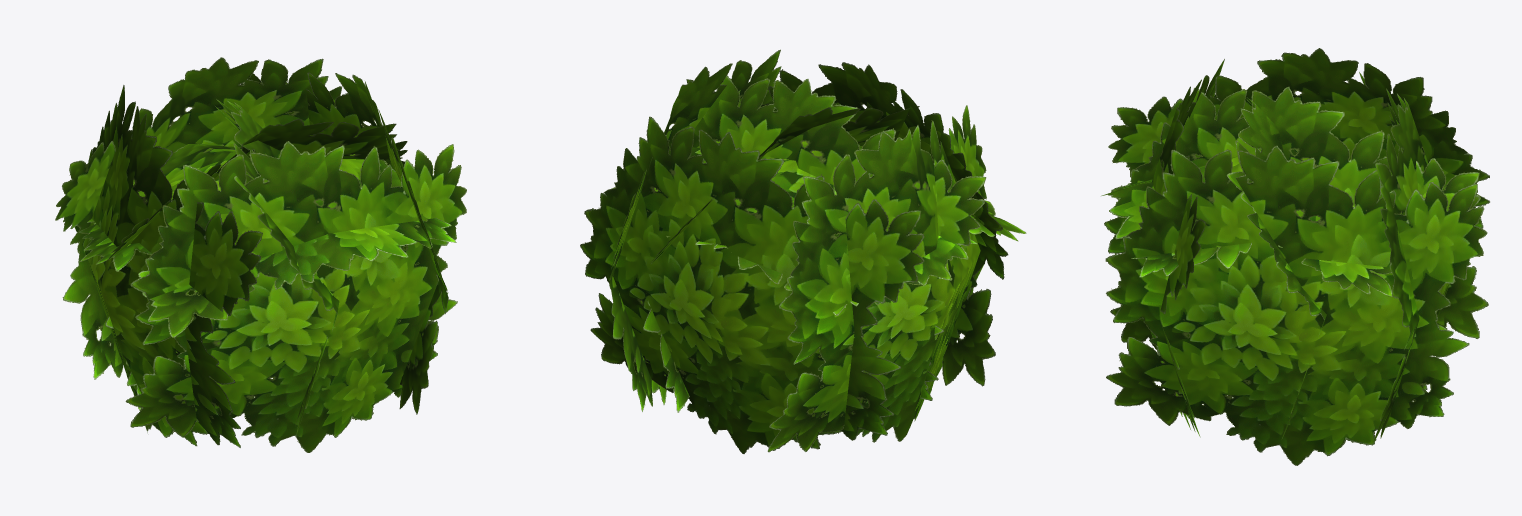
File: LP-Jungle-shrub-1.fbx
3 renders of one model, left to right at view 1: azimuth 30°, elevation 25°; view 2: azimuth 150°, elevation 25°; view 3: azimuth 270°, elevation 25°, orthographic.
Visible parts, largest first — view 1: Plane.009_Plane.001; view 2: Plane.009_Plane.001; view 3: Plane.009_Plane.001.
Part boxes in pixels (bbox=[...]): Plane.009_Plane.001: bbox=[55, 57, 466, 452]; Plane.009_Plane.001: bbox=[580, 49, 1026, 453]; Plane.009_Plane.001: bbox=[1101, 48, 1489, 465].
Bounding box in the file's own units: 464 × 420 × 488.
Materials: 1 (1 with a texture image).
